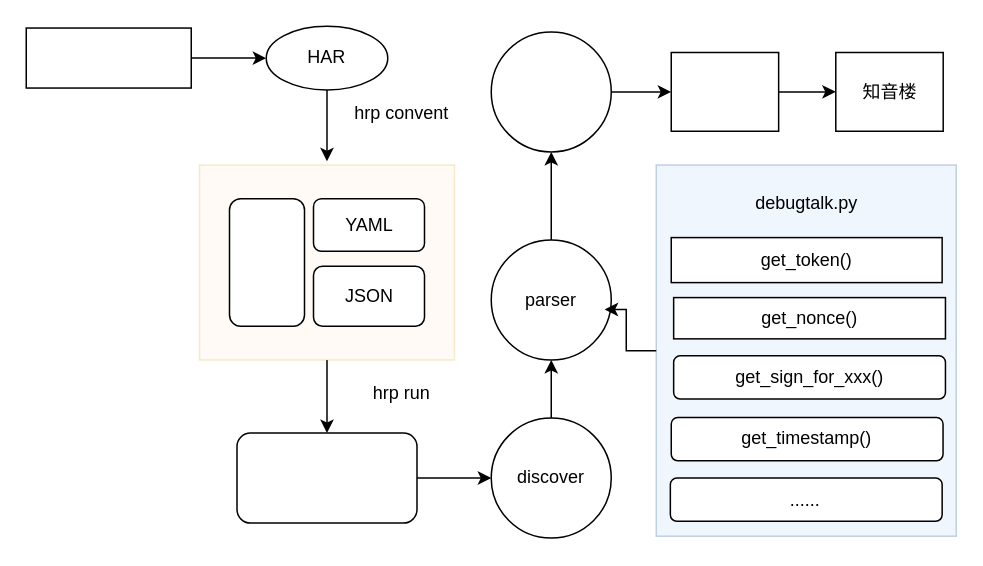
Image size: 983x566. Some labels were removed from this diagram. The centre of each missing label's shape, as x and y in pixels:
"charles/fiddler chrome/firefox" belongs at (x=108, y=57).
"HTML report" belongs at (x=724, y=91).
"pytest" belongs at (x=266, y=261).
"pytest scripts" belongs at (x=326, y=477).
"runner" belongs at (x=550, y=91).
